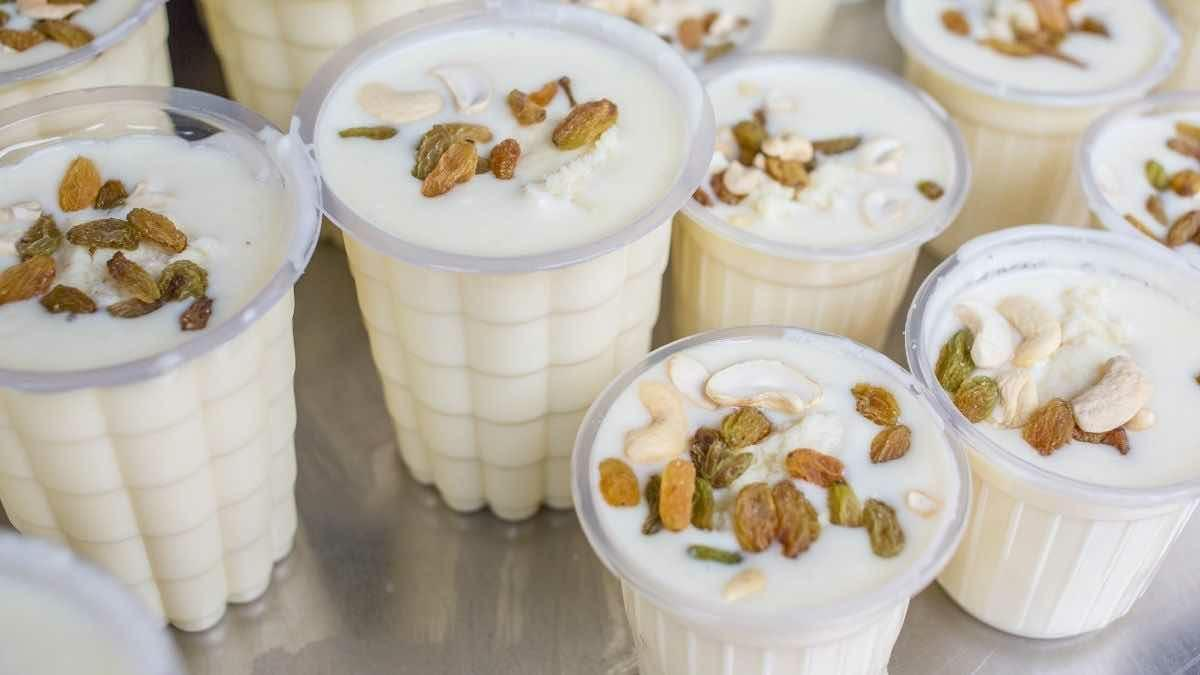Lassi: (315, 24, 688, 520), (0, 126, 310, 631), (590, 337, 960, 675), (929, 268, 1200, 638), (667, 66, 961, 340), (199, 0, 444, 246), (900, 0, 1163, 94), (0, 0, 174, 110), (1093, 109, 1200, 261)
